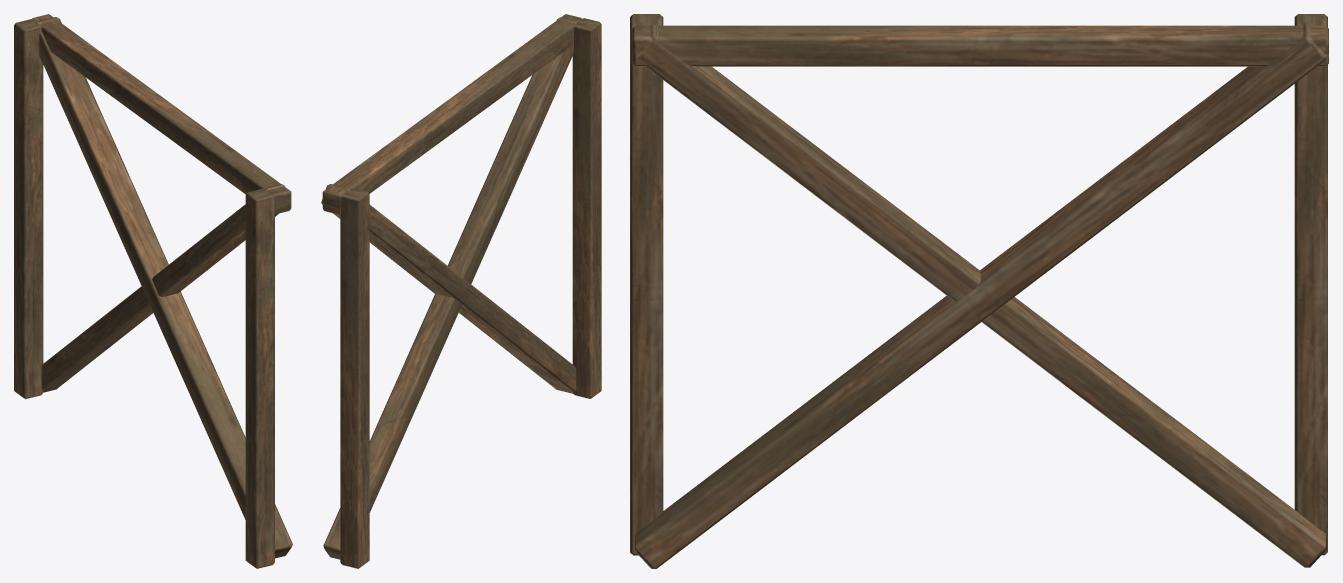
The model's file is SM_support_01.fbx.
3 renders of one model, left to right at view 1: azimuth 30°, elevation 25°; view 2: azimuth 150°, elevation 25°; view 3: azimuth 270°, elevation 25°, orthographic. The views are drawn at different scales.
Visible parts, largest first — view 1: SM_support_01_LOD0; view 2: SM_support_01_LOD0; view 3: SM_support_01_LOD0.
Boxes of the visible parts, bbox=[...] form: SM_support_01_LOD0: bbox=[14, 14, 292, 568]; SM_support_01_LOD0: bbox=[321, 14, 601, 568]; SM_support_01_LOD0: bbox=[630, 14, 1328, 568].
Bounding box in the file's own units: 39.51 × 421 × 354.
1 material, 1 textured.
